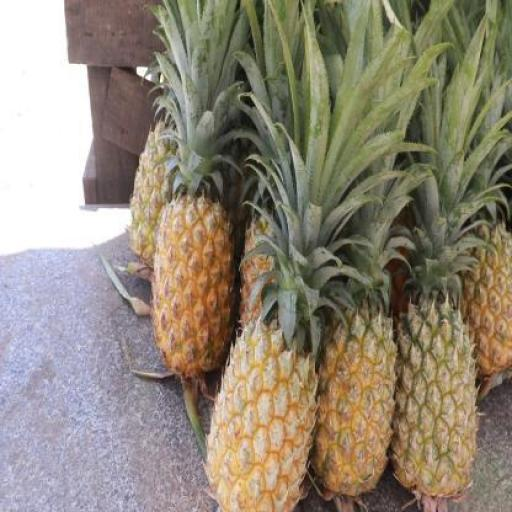------------------------------: (394, 300, 474, 498)
Pineapple - v8 v1: (208, 320, 310, 512), (313, 311, 396, 500), (153, 199, 230, 386), (458, 219, 512, 373)
